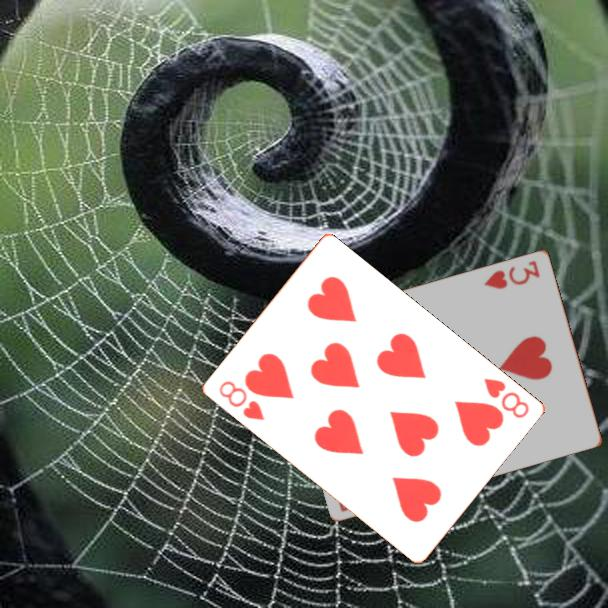h03: (481, 257, 543, 292)
h08: (215, 377, 267, 424), (480, 374, 532, 421)
